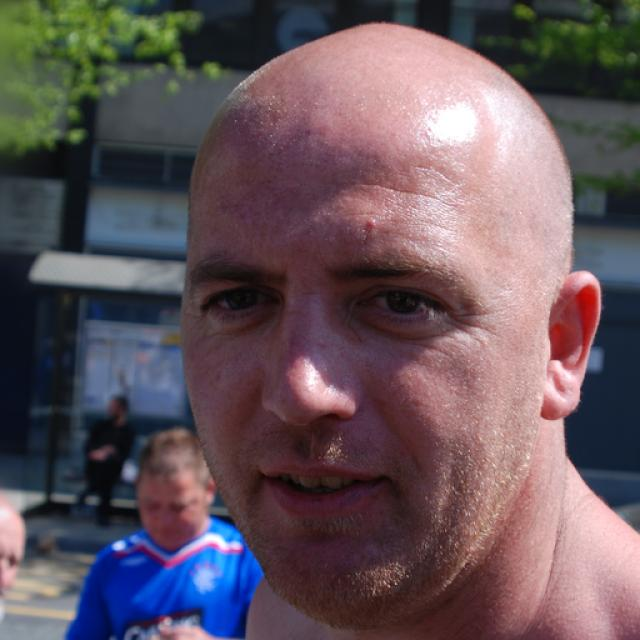Acne: (356, 207, 381, 240)
Wrinkle: (338, 174, 458, 210), (417, 161, 470, 187)
